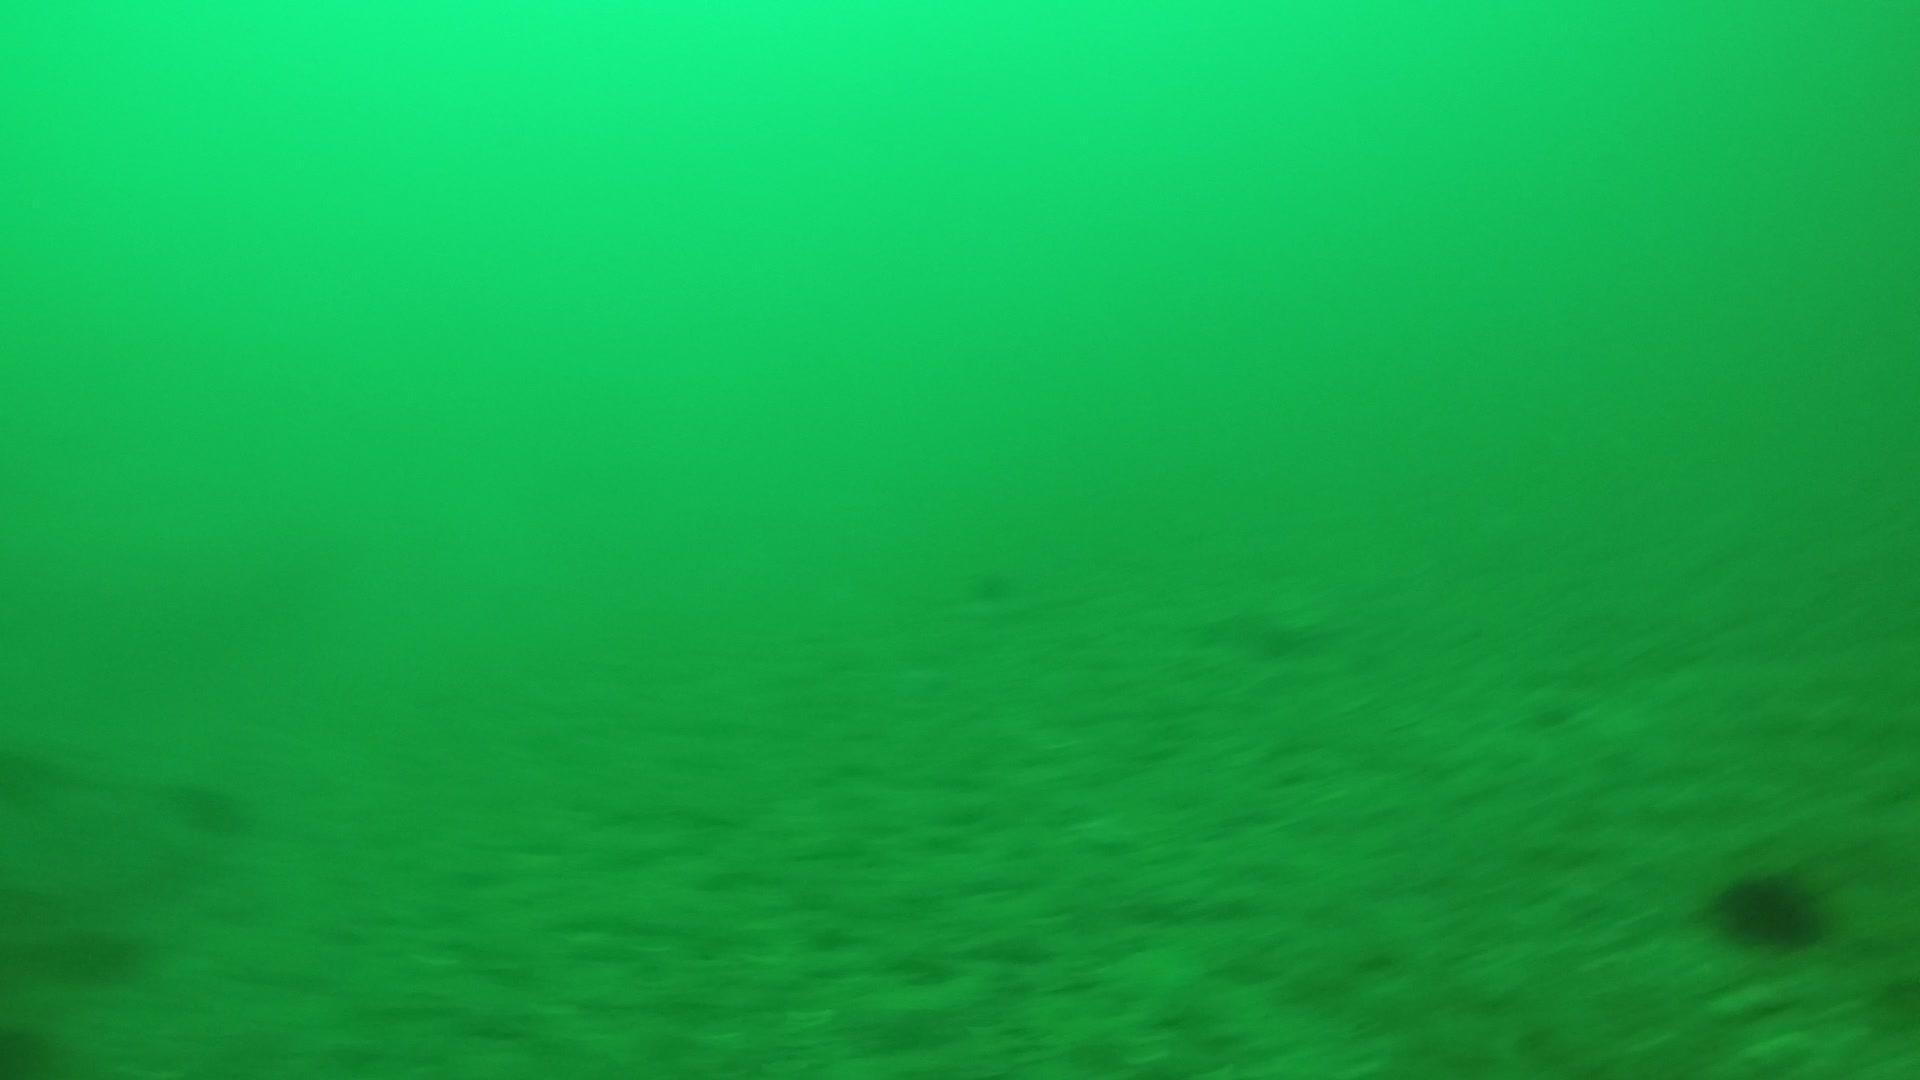echinus: (1706, 858, 1832, 953), (44, 915, 146, 989), (167, 770, 255, 839), (0, 1013, 65, 1080)
